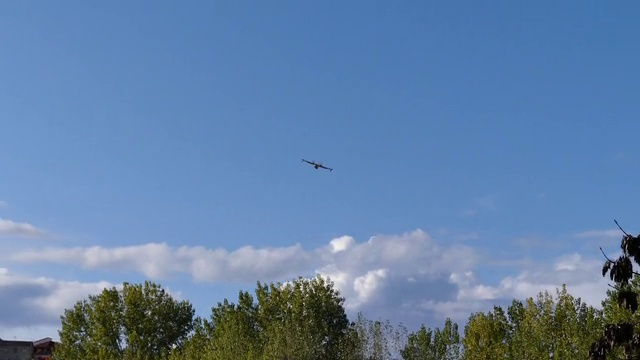plane: (300, 155, 332, 172)
